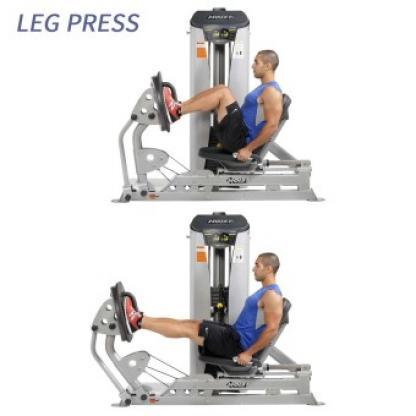leg press: (85, 210, 342, 416), (97, 5, 335, 215)
